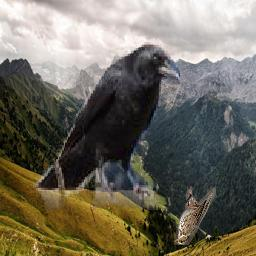Crow: (32, 40, 181, 210)
Sparrow: (174, 187, 216, 246)
